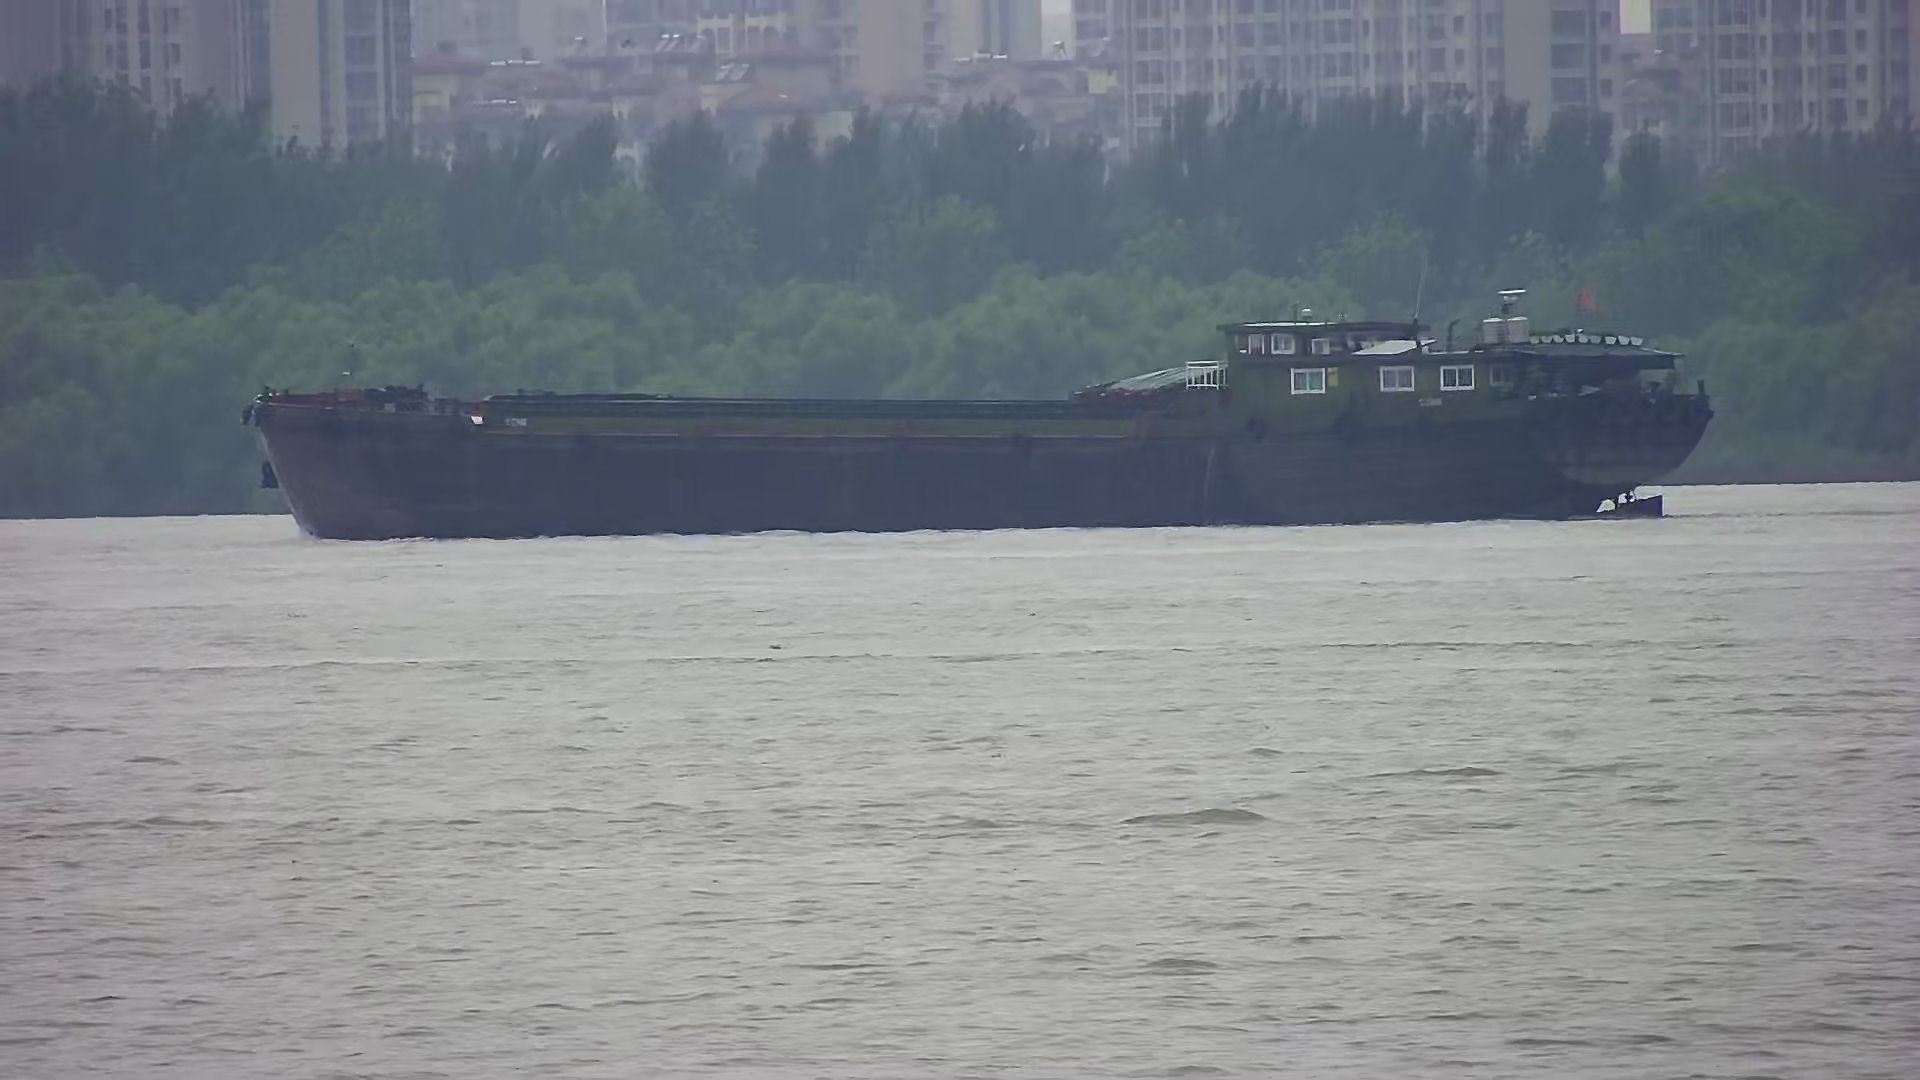ship: (235, 278, 1724, 541)
